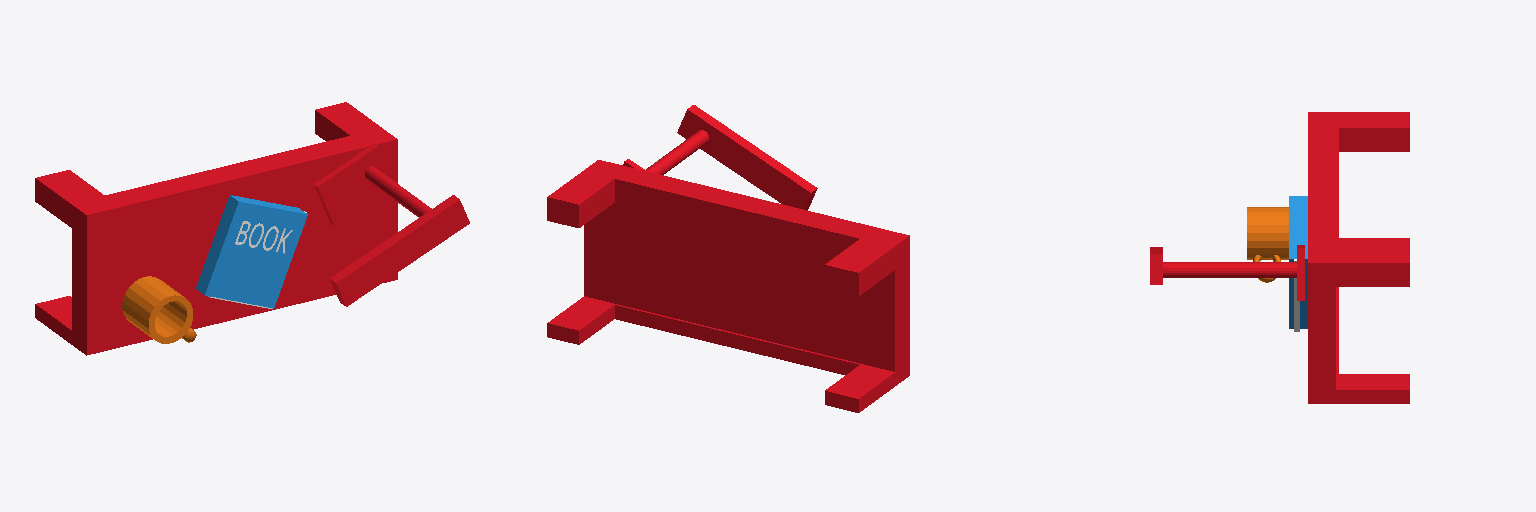
Rendered from table.obj.
3 views of the same model, side by side, from view 1: azimuth 30°, elevation 25°; view 2: azimuth 150°, elevation 25°; view 3: azimuth 270°, elevation 25° (orthographic).
Visible parts, largest first — view 1: obj_0; view 2: obj_0; view 3: obj_0.
Boxes of the visible parts, x1,y1,x2,y2 form: obj_0: [35, 102, 469, 355]; obj_0: [547, 105, 909, 412]; obj_0: [1150, 112, 1409, 403].
Size of the model in its own units: 137 by 60.38 by 99.